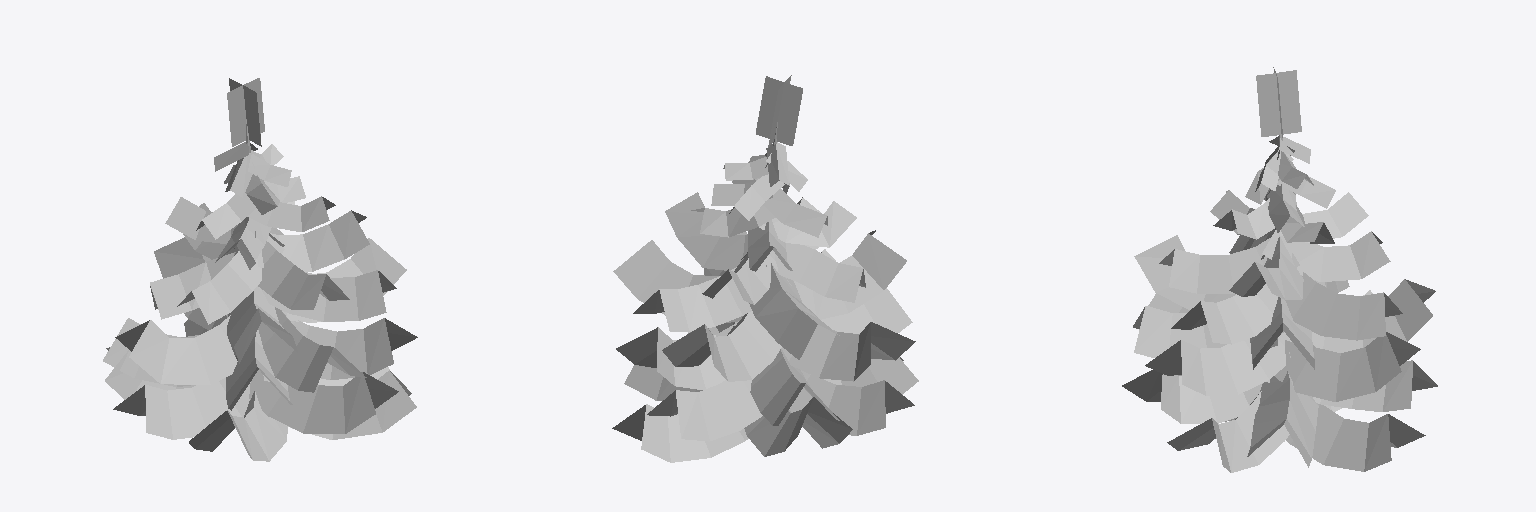
The model's file is Conifer 05_afsTREE.obj.
3 renders of one model, left to right at view 1: azimuth 30°, elevation 25°; view 2: azimuth 150°, elevation 25°; view 3: azimuth 270°, elevation 25°, orthographic.
Parts seen in each view (by area): view 1: leaf; view 2: leaf; view 3: leaf.
Boxes of the visible parts, <box> form: leaf: <box>103,78,417,461</box>; leaf: <box>612,75,918,462</box>; leaf: <box>1122,67,1437,472</box>.
Bounding box in the file's own units: 9.29 × 11.53 × 9.28.